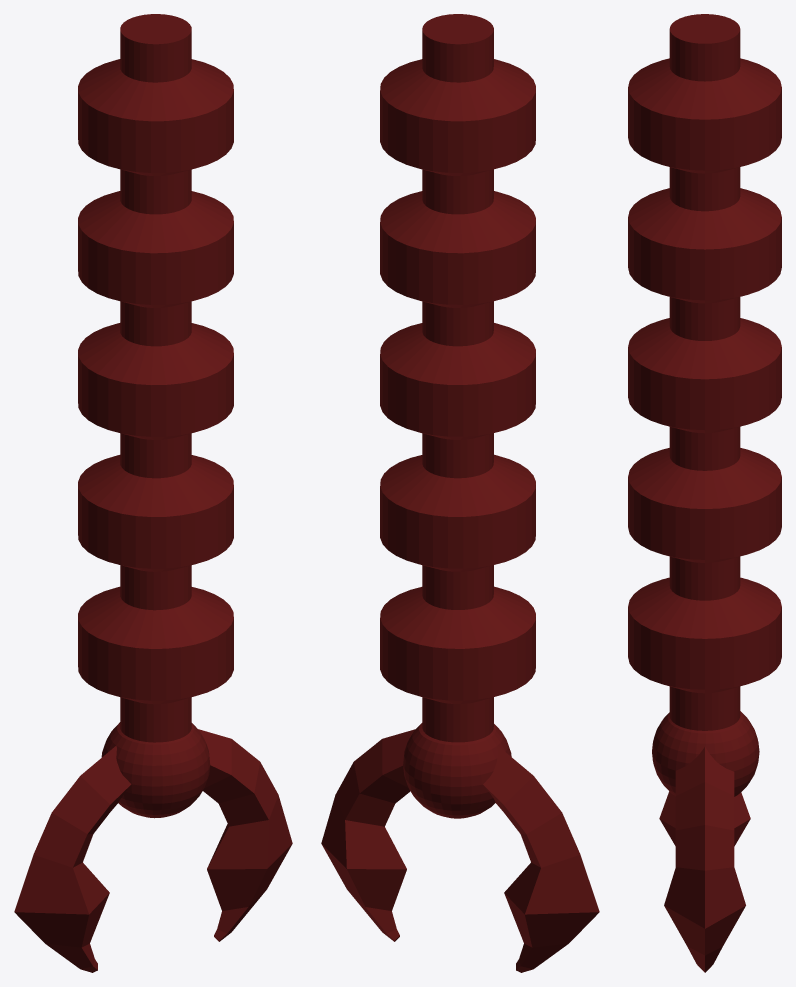
Rendered from Mechanic_Arm.fbx.
The picture shows the model from 3 angles, left to right: view 1: azimuth 30°, elevation 25°; view 2: azimuth 150°, elevation 25°; view 3: azimuth 270°, elevation 25°; orthographic projection.
Visible parts, largest first — view 1: Cylinder; view 2: Cylinder; view 3: Cylinder.
Boxes of the visible parts, x1=… form: Cylinder: x1=14, y1=14, x2=292, y2=972; Cylinder: x1=321, y1=14, x2=599, y2=972; Cylinder: x1=628, y1=14, x2=781, y2=972.
Size of the model in its own units: 124 by 396 by 60.46.
